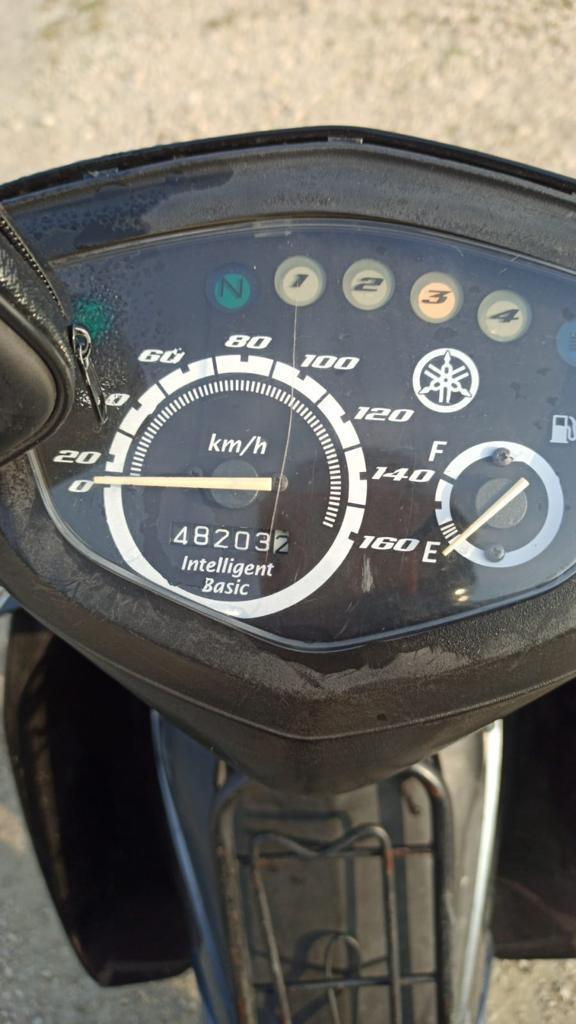0: (232, 529, 251, 550)
2: (213, 527, 230, 551), (274, 533, 288, 555)
3: (254, 530, 270, 553)
4: (171, 524, 190, 549)
8: (193, 524, 209, 548)
odometer: (168, 519, 290, 557)
